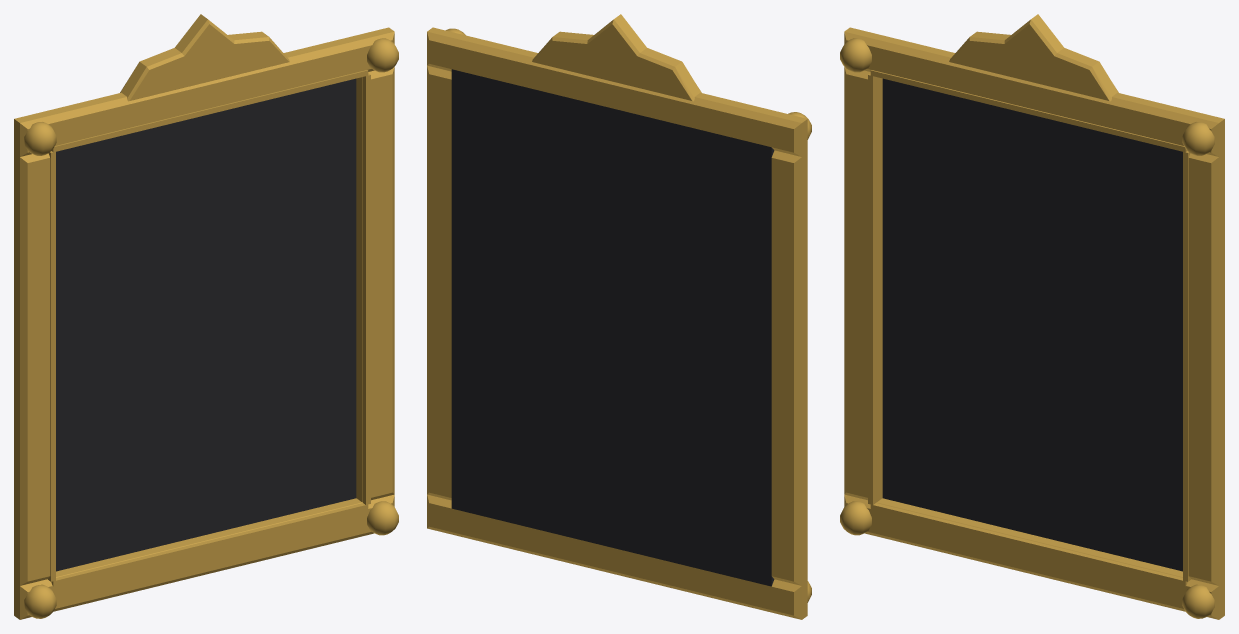
The model's file is frame.glb.
3 views of the same model, side by side, from view 1: azimuth 30°, elevation 25°; view 2: azimuth 150°, elevation 25°; view 3: azimuth 330°, elevation 25° (orthographic).
Parts seen in each view (by area): view 1: iron0, gold4, gold3, gold1, gold2, gold13, gold11, gold10, gold12, gold9, gold7, gold5 (+2 smaller); view 2: iron0, gold4, gold1, gold3, gold2, gold13; view 3: iron0, gold3, gold4, gold1, gold2, gold13, gold12, gold10, gold11, gold9, gold8, gold6 (+2 smaller).
Boxes of the visible parts, x1,y1,x2,y2 form: iron0: (56,78,356,571); gold4: (14,153,50,585); gold3: (356,67,394,502); gold1: (14,27,394,156); gold2: (14,494,394,619); gold13: (120,14,289,101); gold11: (363,73,370,504); gold10: (51,503,368,586); gold12: (48,151,55,581); gold9: (51,70,368,152); gold7: (24,584,56,618); gold5: (24,122,56,155); iron0: (451,69,774,586); gold4: (771,150,807,585); gold1: (427,27,807,156); gold3: (427,65,451,500); gold2: (427,494,807,619); gold13: (532,14,701,101); iron0: (882,78,1182,571); gold3: (1188,153,1224,585); gold4: (844,67,882,502); gold1: (844,27,1224,156); gold2: (844,494,1224,619); gold13: (949,14,1118,101); gold12: (868,73,875,504); gold10: (870,503,1187,586); gold11: (1183,151,1190,581); gold9: (870,70,1187,152); gold8: (1182,584,1214,618); gold6: (1182,122,1214,155).
Size of the model in its own units: 1.5 by 2.12 by 0.1406.
